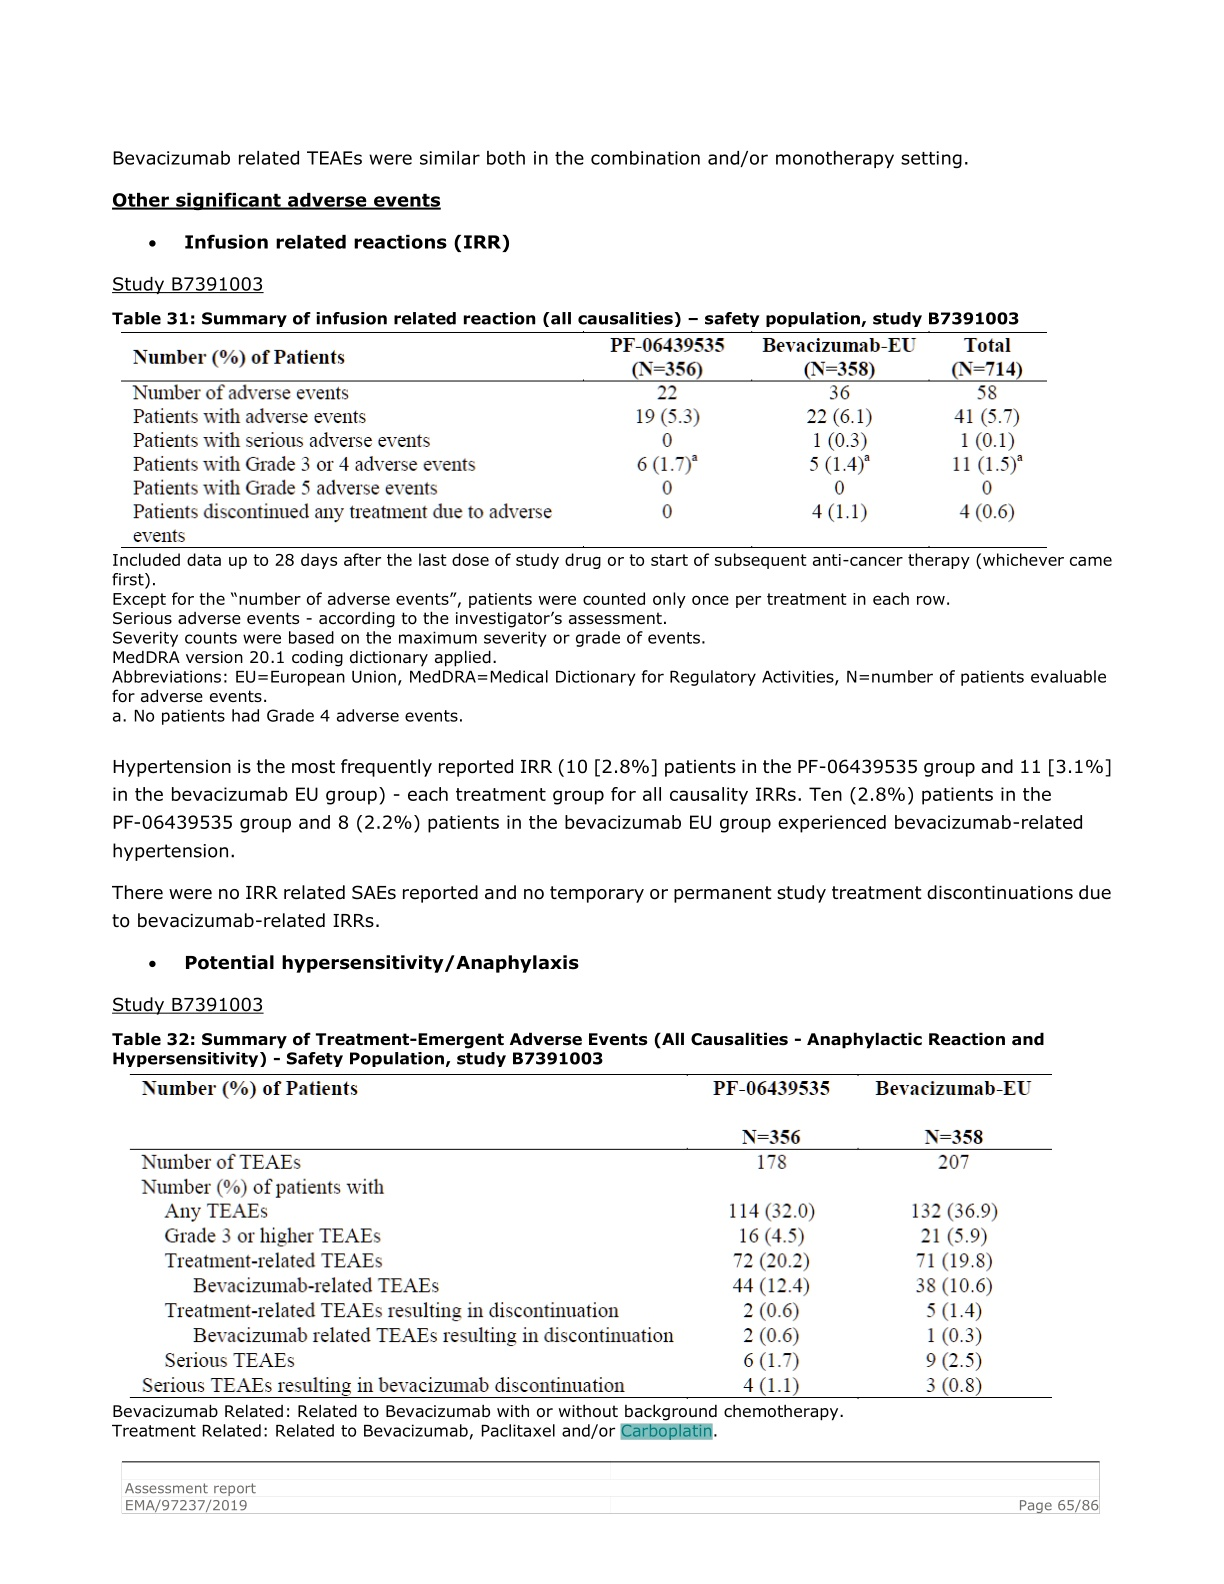partial_lined: (129, 1074, 1056, 1399), (120, 330, 1047, 549)
